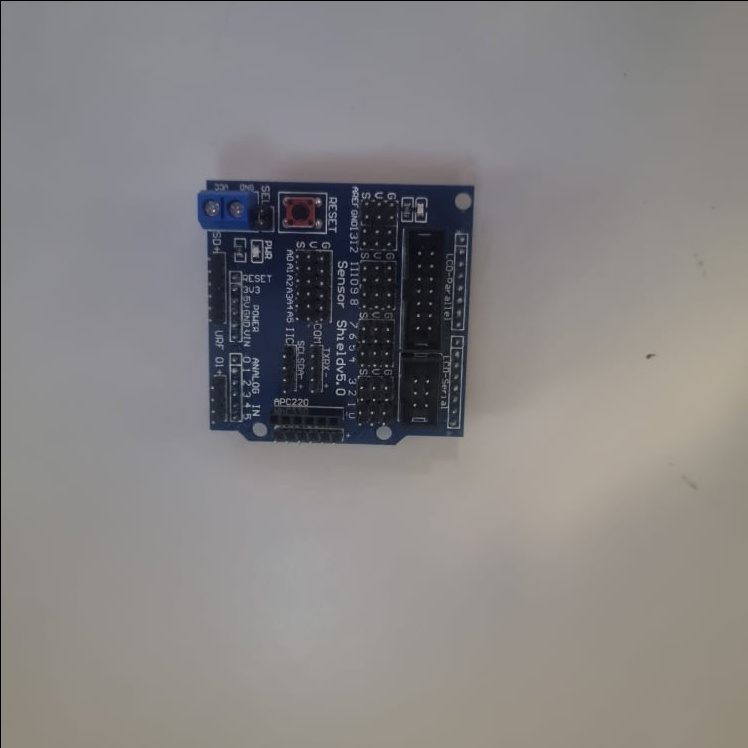5V EXPANSION: (194, 176, 469, 443)
